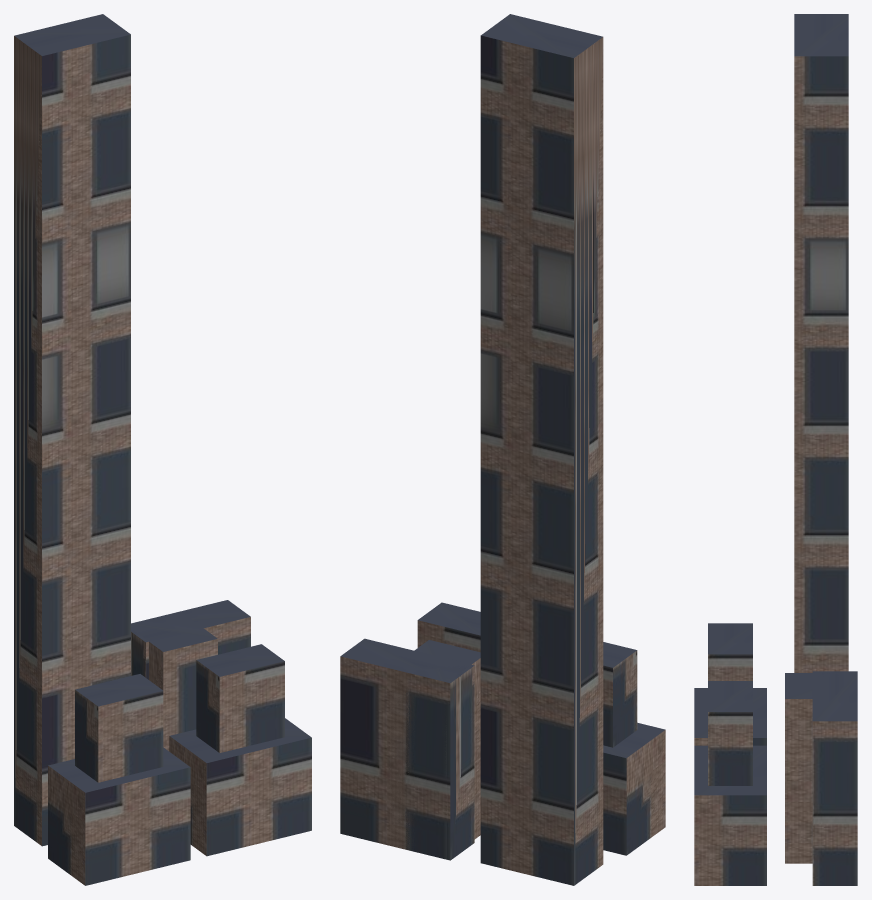
The model's file is block_16.obj.
3 views of the same model, side by side, from view 1: azimuth 30°, elevation 25°; view 2: azimuth 150°, elevation 25°; view 3: azimuth 270°, elevation 25° (orthographic). The views are drawn at different scales.
Parts seen in each view (by area): view 1: b0, b1, b3, b2; view 2: b0, b2, b1, b3; view 3: b0, b2, b3, b1.
Part boxes in pixels (x1,y1,x2,y2): b0: (14, 14, 130, 846); b1: (48, 674, 190, 885); b3: (169, 644, 311, 856); b2: (131, 600, 250, 751); b0: (480, 14, 603, 885); b2: (340, 638, 480, 860); b1: (603, 642, 665, 855); b3: (417, 602, 480, 652); b0: (794, 14, 848, 672); b2: (785, 671, 857, 885); b3: (694, 681, 766, 885); b1: (694, 623, 766, 745).
Size of the model in its own units: 4.2 by 14 by 2.7.
